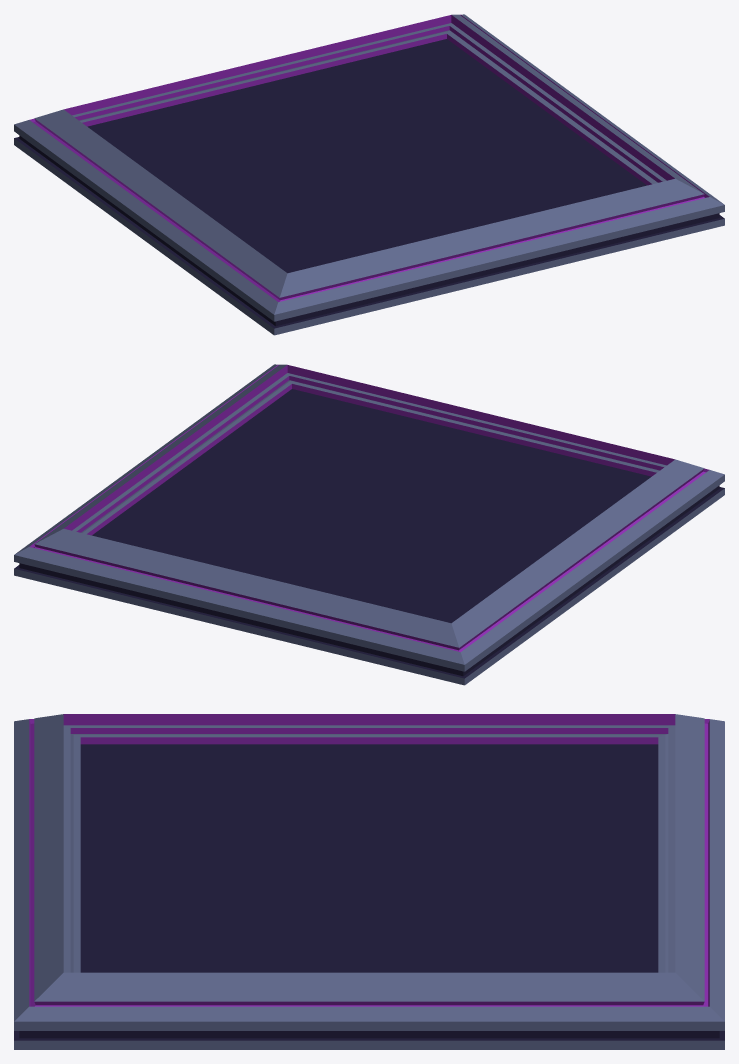
File: Soporte_boton.fbx
The picture shows the model from 3 angles, top to bottom: view 1: azimuth 30°, elevation 25°; view 2: azimuth 150°, elevation 25°; view 3: azimuth 270°, elevation 25°; orthographic projection. The views are drawn at different scales.
Visible parts, largest first — view 1: Boton; view 2: Boton; view 3: Boton.
Part boxes in pixels (x1,y1,x2,y2): Boton: (14, 14, 724, 335); Boton: (14, 364, 724, 685); Boton: (14, 714, 724, 1049).
Size of the model in its own units: 0.9507 by 0.0831 by 0.9507.
